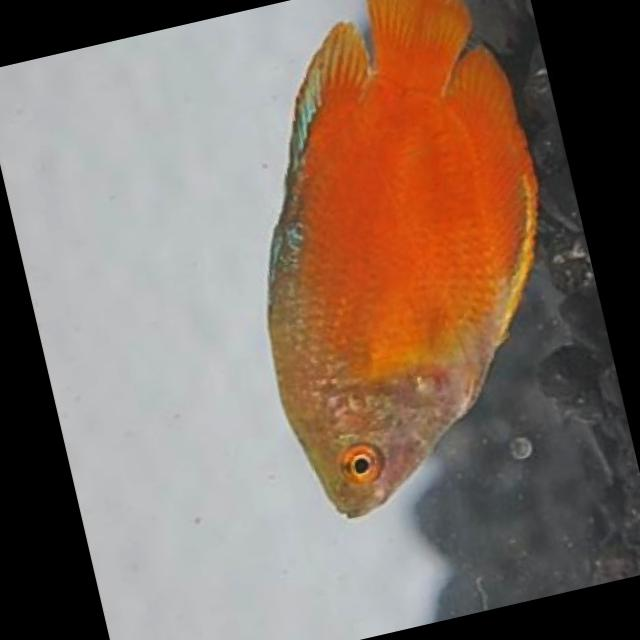Gourami: (181, 0, 602, 534)
